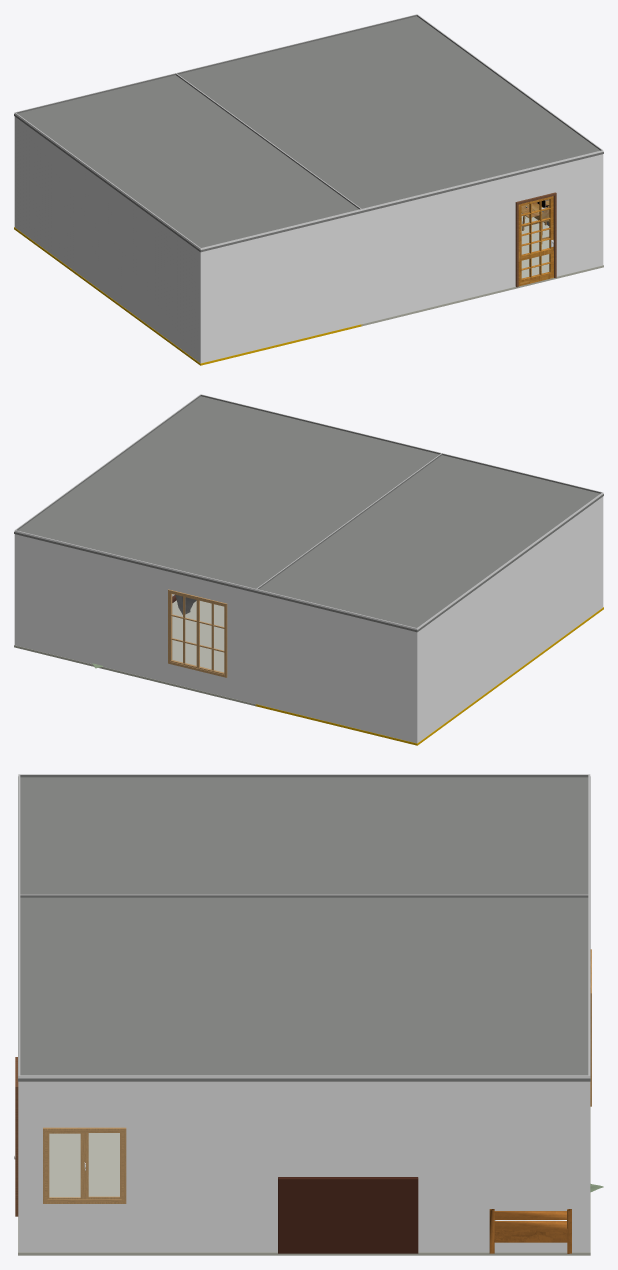
The model's file is ProcTHOR-Train-117.glb.
3 views of the same model, one above another, from view 1: azimuth 30°, elevation 25°; view 2: azimuth 150°, elevation 25°; view 3: azimuth 270°, elevation 25° (orthographic). The views are drawn at different scales.
Parts seen in each view (by area): view 1: Ceiling#room|2|c, Ceiling#room|3|c, WallInside#wall|exterior|0.00|8.35|6.26|8.35, WallInside#wall|exterior|10.43|0.00|10.43|8.35, WallInside#wall|exterior|6.26|8.35|10.43|8.35, Doorway_5, Floor#room|2|f, Floor#room|3|f, WallInside#wall|2|0.00|0.00|6.26|0.00, WallInside#wall|2|0.00|0.00|0.00|8.35, RoboTHOR_desk_alve, WallInside#wall|3|6.26|0.00|6.26|8.35; view 2: Ceiling#room|2|c, Ceiling#room|3|c, WallInside#wall|exterior|0.00|0.00|6.26|0.00, WallInside#wall|exterior|10.43|0.00|10.43|8.35, WallInside#wall|exterior|6.26|0.00|10.43|0.00, Floor#room|2|f, Window_Fixed_60x72, Floor#room|3|f, WallInside#wall|2|0.00|8.35|6.26|8.35, WallInside#wall|2|0.00|0.00|0.00|8.35, WallInside#wall|3|6.26|0.00|6.26|8.35; view 3: Ceiling#room|2|c, WallInside#wall|exterior|0.00|0.00|0.00|8.35, Ceiling#room|3|c, Bed_30, Floor#room|2|f, Bed_26_2, Window_Slider_48x48, WallInside#wall|3|10.43|0.00|10.43|8.35, WallInside#wall|2|6.26|0.00|6.26|8.35.
Part boxes in pixels (bbox=[...]): Ceiling#room|2|c: bbox=[176, 16, 603, 212]; Ceiling#room|3|c: bbox=[14, 75, 361, 252]; WallInside#wall|exterior|0.00|8.35|6.26|8.35: bbox=[361, 150, 603, 323]; WallInside#wall|exterior|10.43|0.00|10.43|8.35: bbox=[14, 112, 200, 363]; WallInside#wall|exterior|6.26|8.35|10.43|8.35: bbox=[200, 209, 362, 363]; Doorway_5: bbox=[515, 192, 556, 287]; Floor#room|2|f: bbox=[361, 213, 603, 326]; Floor#room|3|f: bbox=[14, 227, 362, 365]; WallInside#wall|2|0.00|0.00|6.26|0.00: bbox=[176, 14, 416, 74]; WallInside#wall|2|0.00|0.00|0.00|8.35: bbox=[416, 14, 602, 225]; RoboTHOR_desk_alve: bbox=[521, 200, 549, 243]; WallInside#wall|3|6.26|0.00|6.26|8.35: bbox=[175, 73, 360, 209]; Ceiling#room|2|c: bbox=[14, 396, 441, 592]; Ceiling#room|3|c: bbox=[255, 455, 603, 632]; WallInside#wall|exterior|0.00|0.00|6.26|0.00: bbox=[14, 530, 256, 703]; WallInside#wall|exterior|10.43|0.00|10.43|8.35: bbox=[417, 492, 603, 743]; WallInside#wall|exterior|6.26|0.00|10.43|0.00: bbox=[255, 589, 417, 743]; Floor#room|2|f: bbox=[14, 600, 256, 706]; Window_Fixed_60x72: bbox=[168, 589, 227, 677]; Floor#room|3|f: bbox=[255, 607, 603, 745]; WallInside#wall|2|0.00|8.35|6.26|8.35: bbox=[201, 394, 441, 454]; WallInside#wall|2|0.00|0.00|0.00|8.35: bbox=[15, 394, 201, 530]; WallInside#wall|3|6.26|0.00|6.26|8.35: bbox=[257, 453, 442, 589]; Ceiling#room|2|c: bbox=[18, 897, 590, 1081]; WallInside#wall|exterior|0.00|0.00|0.00|8.35: bbox=[18, 1075, 589, 1252]; Ceiling#room|3|c: bbox=[18, 776, 590, 897]; Bed_30: bbox=[278, 1177, 418, 1253]; Floor#room|2|f: bbox=[18, 1107, 590, 1255]; Bed_26_2: bbox=[489, 1183, 603, 1253]; Window_Slider_48x48: bbox=[43, 1127, 126, 1203]; WallInside#wall|3|10.43|0.00|10.43|8.35: bbox=[20, 774, 589, 777]; WallInside#wall|2|6.26|0.00|6.26|8.35: bbox=[20, 895, 588, 897].
Size of what is drawn, in the model's own units: 10.57 by 2.9 by 8.64.
143 materials, 55 textured.
